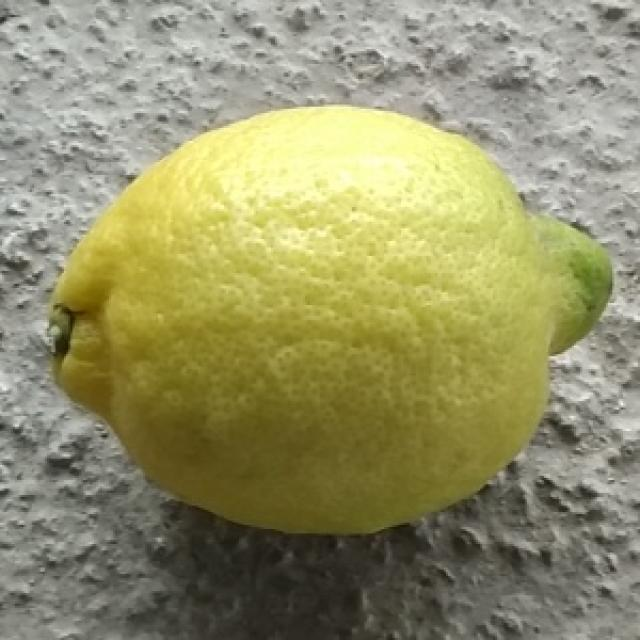Ripe: (37, 100, 614, 544)
